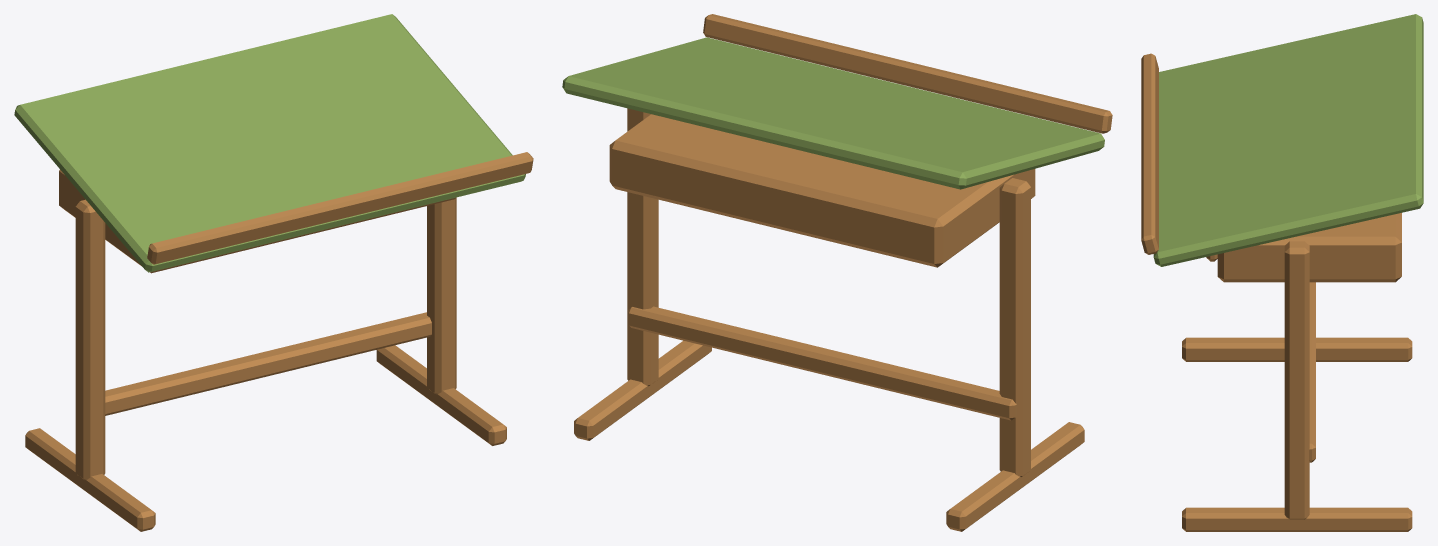
File: drafting_table.glb
3 views of the same model, side by side, from view 1: azimuth 30°, elevation 25°; view 2: azimuth 150°, elevation 25°; view 3: azimuth 270°, elevation 25° (orthographic). The views are drawn at different scales.
Visible parts, largest first — view 1: drafting_table; view 2: drafting_table; view 3: drafting_table.
Boxes of the visible parts, bbox=[...] form: drafting_table: bbox=[14, 14, 533, 531]; drafting_table: bbox=[562, 14, 1112, 531]; drafting_table: bbox=[1141, 14, 1423, 531].
Size of the model in its own units: 1.04 by 0.8963 by 0.6743.
